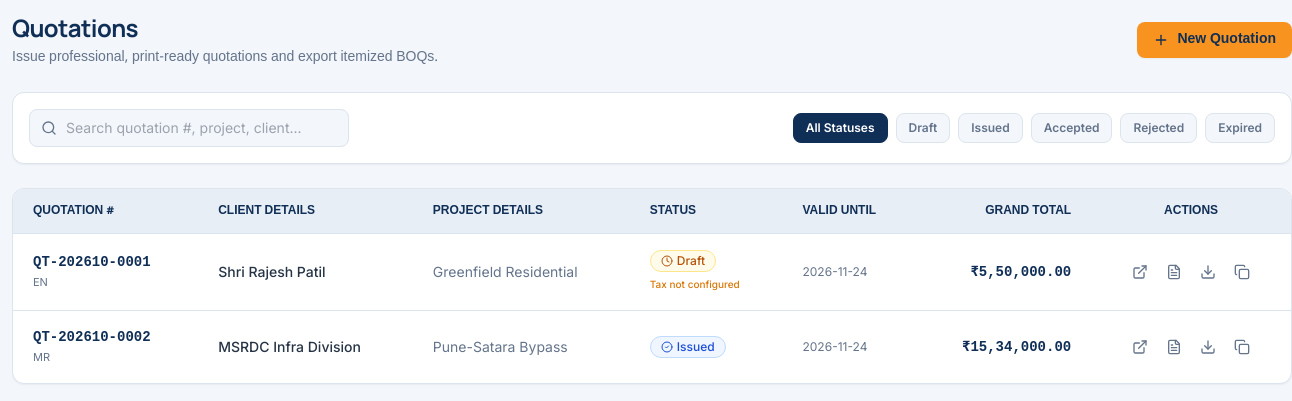
Test: Phase D: Quotation Engine & Export Suite › Quotations Listing & UI Workflow › filters quotation list by status and search query
expect the link "QT-202610-0001" is shown: met, box [33, 254, 151, 270]
Filter by search form submit
In the field with placeholder "Search quotation #, project, client...": (189, 128) [29, 109, 349, 147], type "Highway"
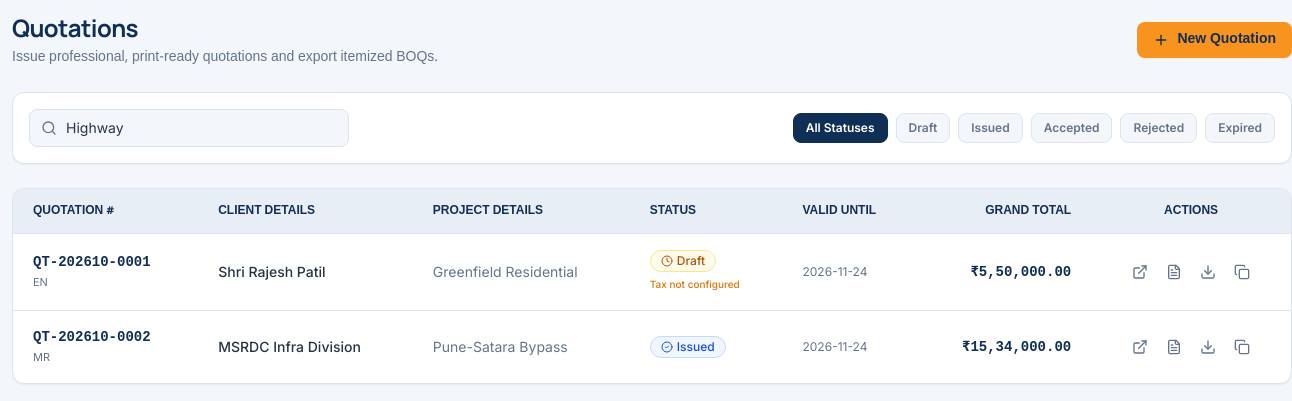
Submit the form with placeholder "search", box [29, 109, 349, 147]
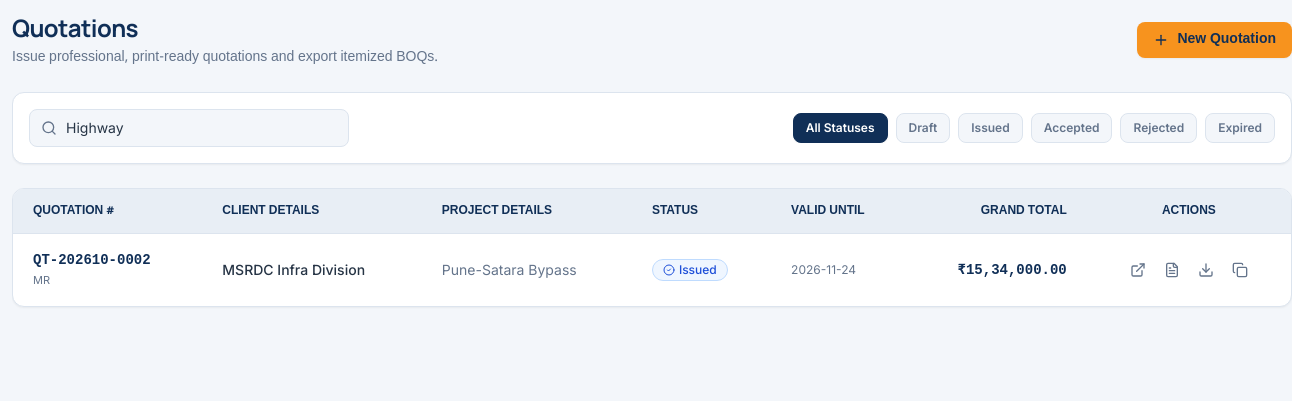
expect the link "QT-202610-0002" is shown: met, box [33, 252, 151, 268]
expect the link "QT-202610-0001" is gone: met
